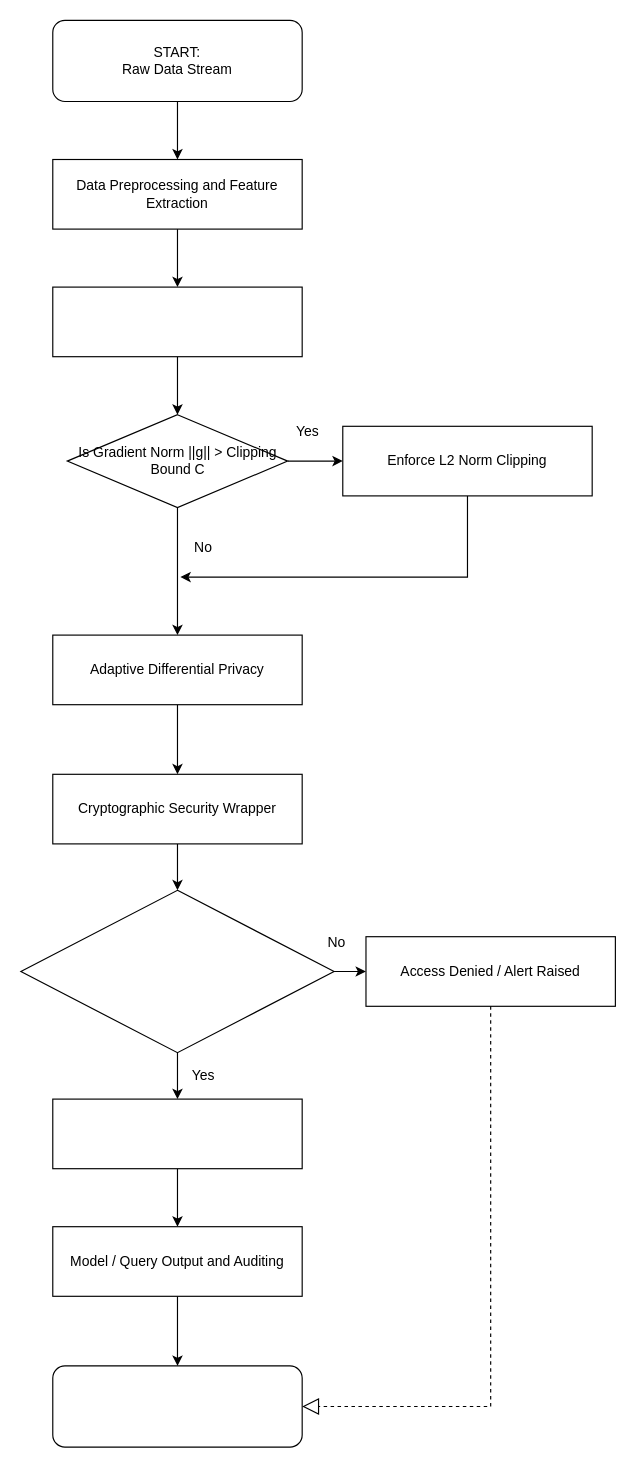
Some shapes in this 636 by 1467 pixel diagram are drawn without their labels. The centre of each missing label's shape, as x and y in pixels:
"Calculate Atribute Sensitivity" goes at (177,321).
"Distributed Secure Aggregation" goes at (177,1133).
"Does Security Token Satisfy Cluster ABAC / Policy Tree?" goes at (177,971).
"END: Pipeline Terminated" goes at (177,1406).
